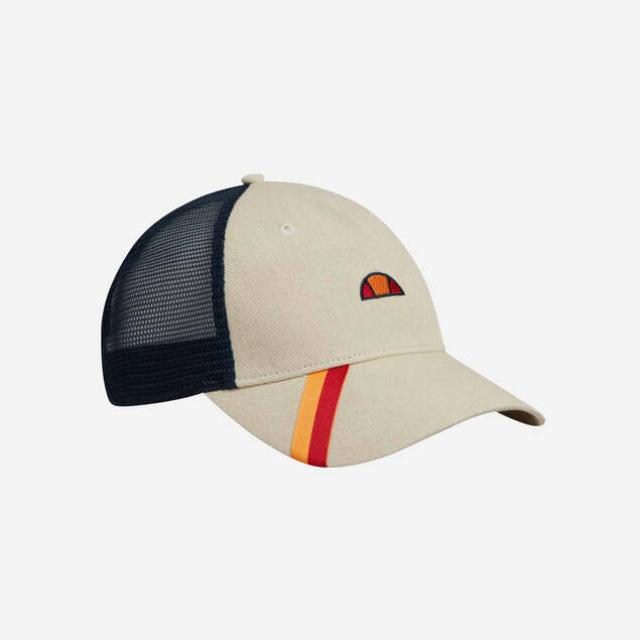Nonhelmet: (97, 170, 546, 471)
